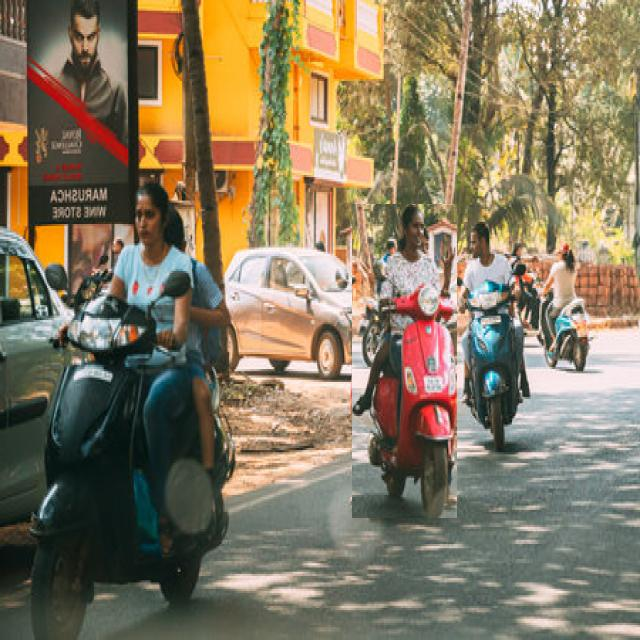car: (225, 248, 360, 378)
motorcycle: (31, 184, 235, 638), (352, 205, 456, 518), (452, 221, 530, 449), (541, 244, 589, 370)
